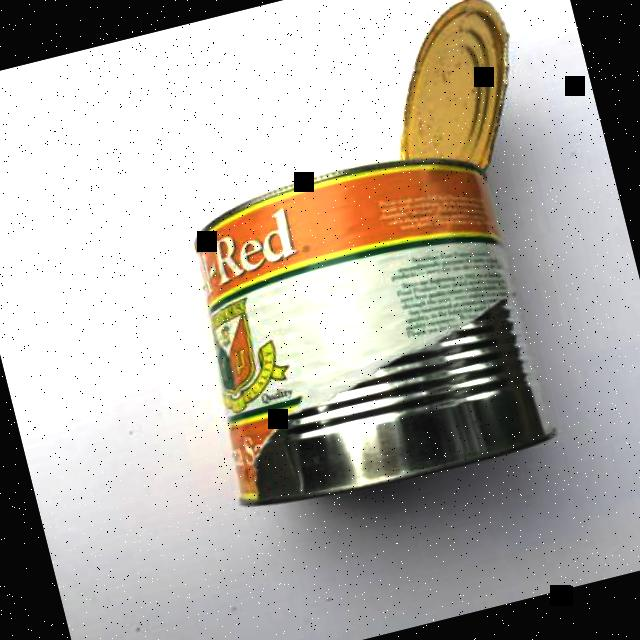can: (128, 0, 607, 522)
